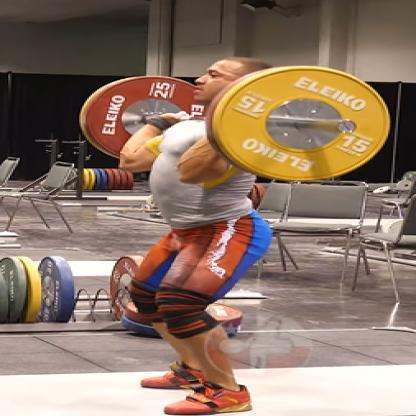Barbell: (335, 119, 362, 136)
